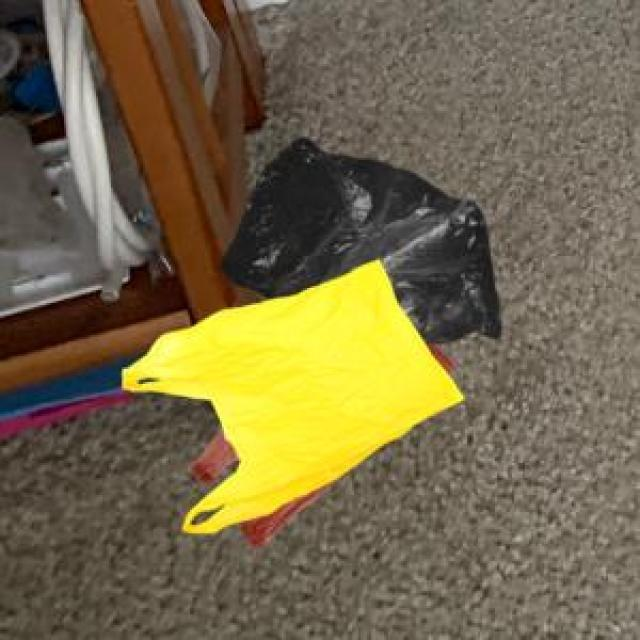waste: (122, 260, 464, 546), (225, 138, 501, 343)
